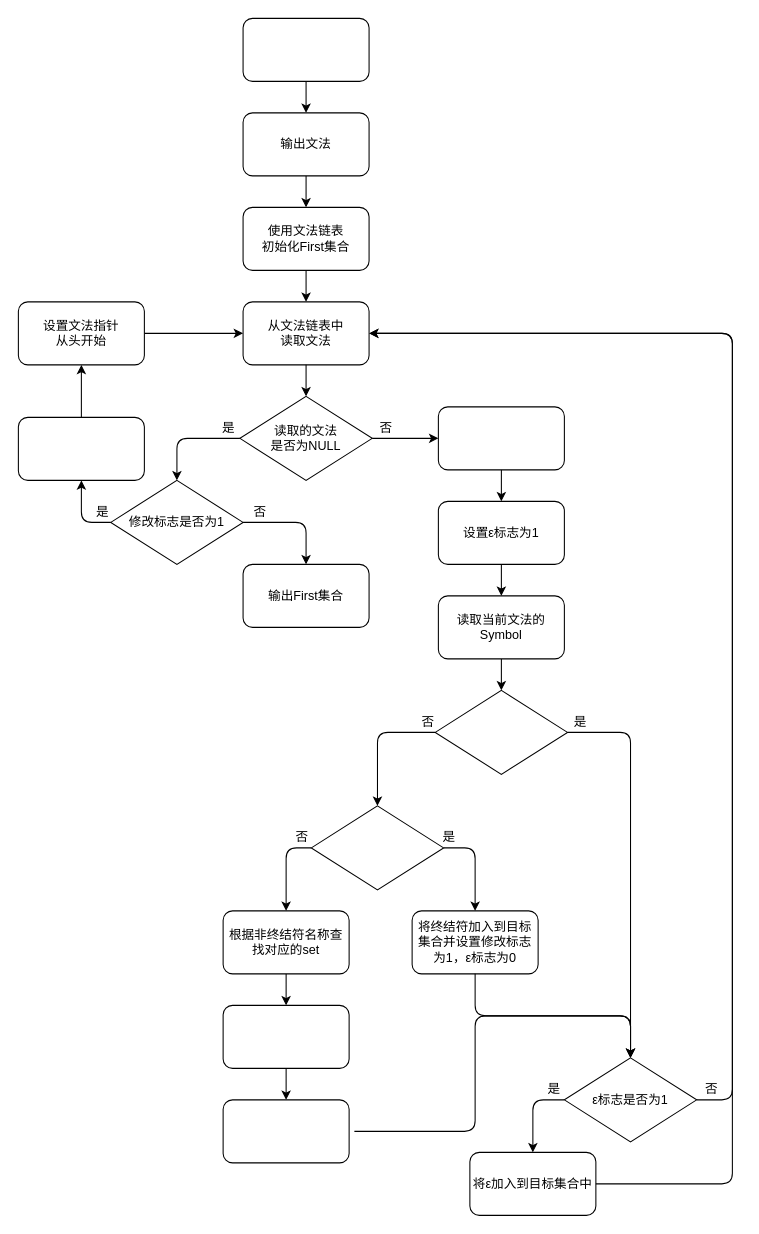
The diagram is 759 pixels wide and 1234 high, and some of its shapes have lost their labels. Each missing label, with the centre of its shape:
初始化文法信息: point (305, 49)
将查找到的set内终结符添加到当前Rule对应set中: point (285, 1036)
根据文法名称获得对应的First集合: point (500, 438)
根据查找到的set中的终结符设置ε标志: point (285, 1131)
设置修改标志为0: point (80, 448)
读取的Symbol 是否为NULL: point (501, 731)
读取的Symbol 是否为终结符: point (377, 847)
